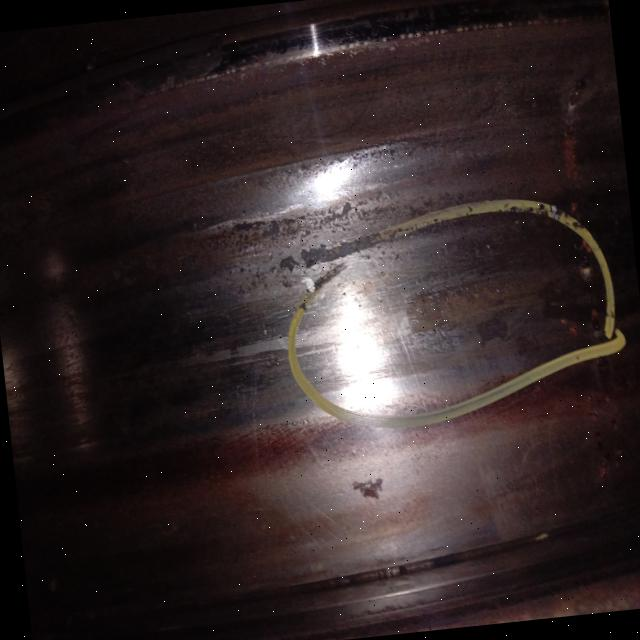Peeling: (387, 257, 548, 373)
